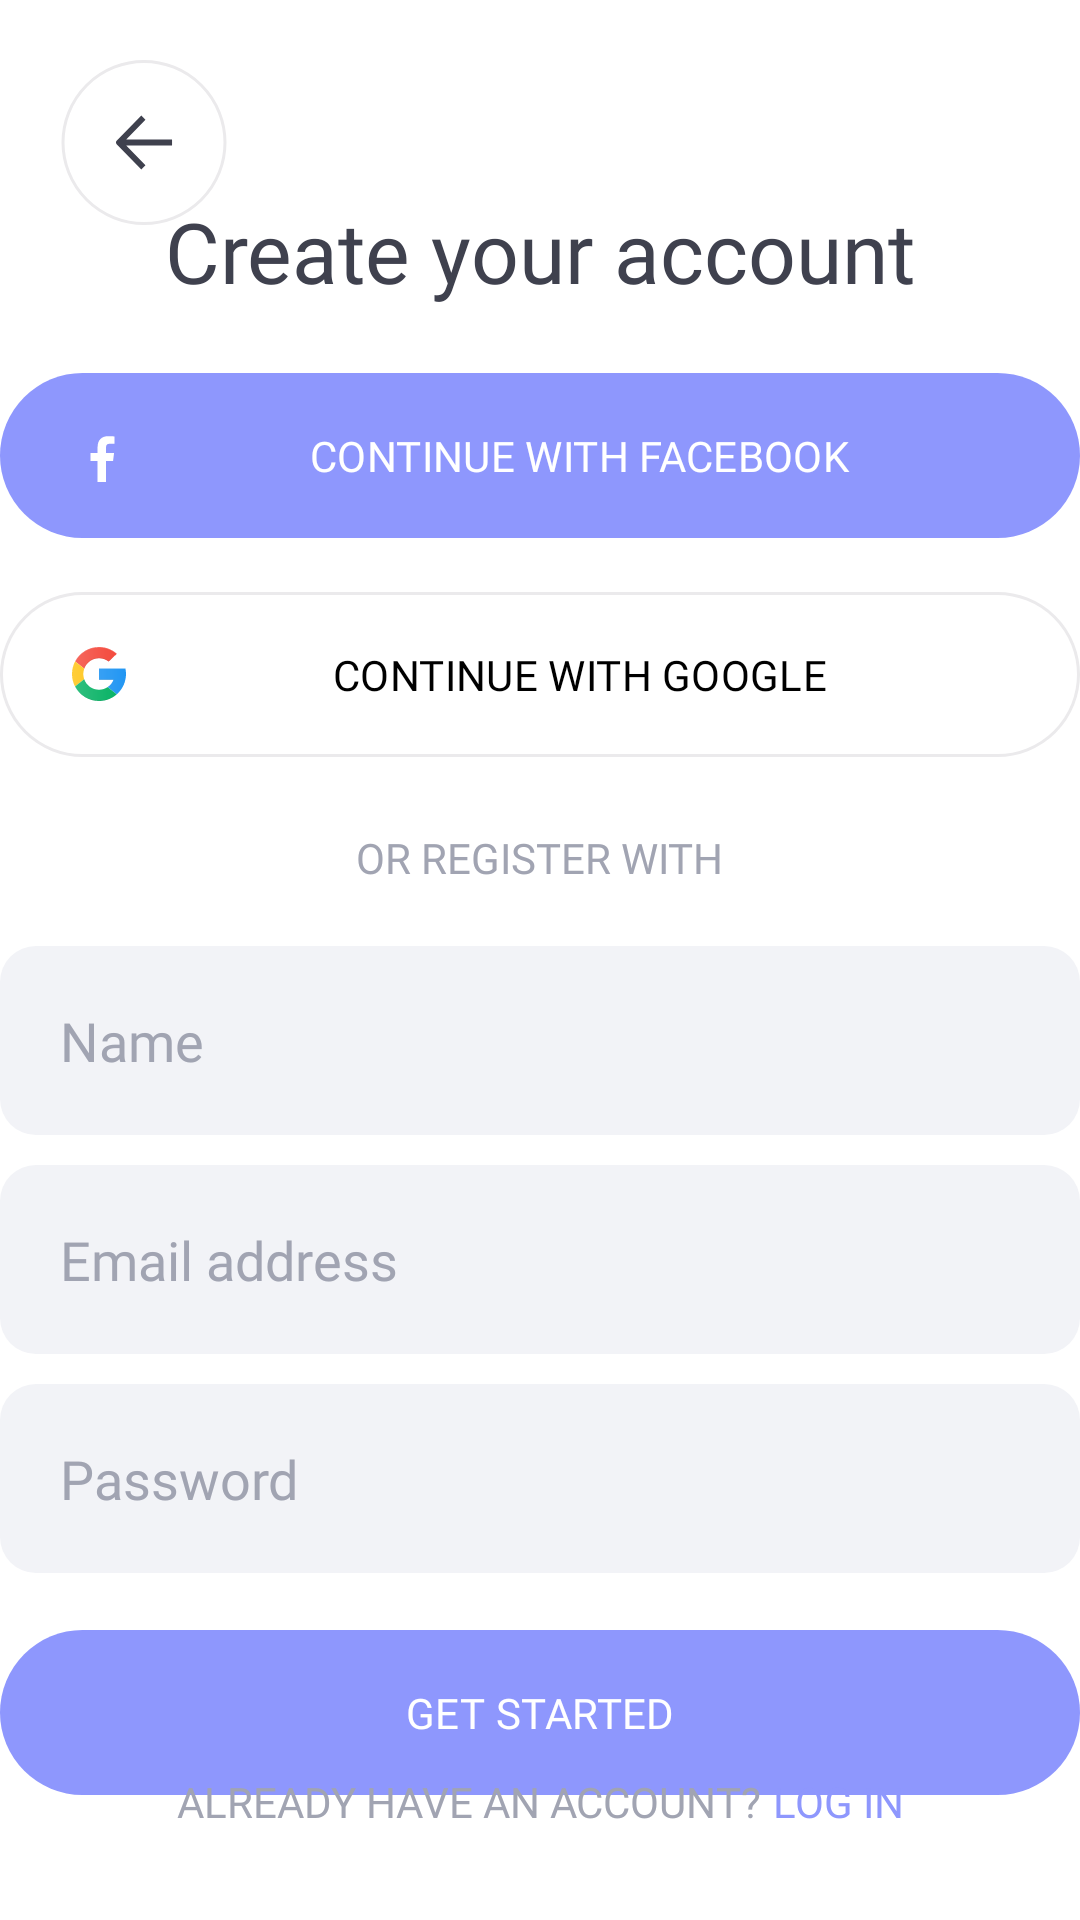

Screen size 1080×1920. Icon name, then its center in pixels as (x=x, y=y):
back: (x=144, y=142)
